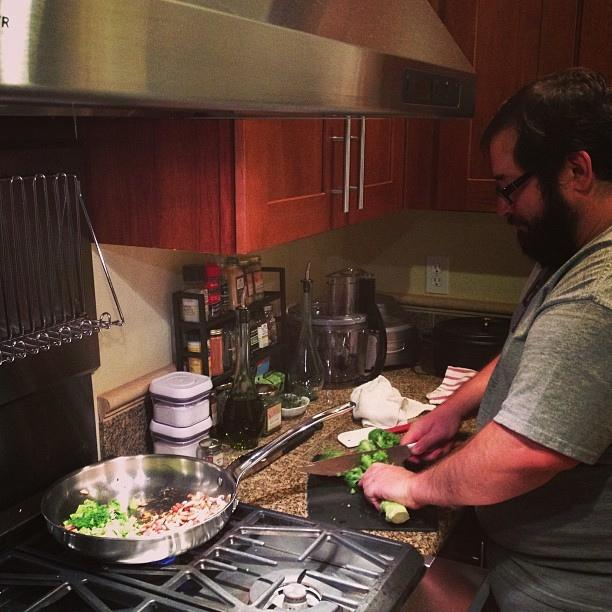broccoli: (344, 451, 410, 524), (368, 429, 400, 449), (312, 450, 345, 462), (90, 509, 108, 528), (357, 439, 377, 453), (72, 517, 89, 528), (83, 508, 96, 522), (108, 500, 120, 514)
